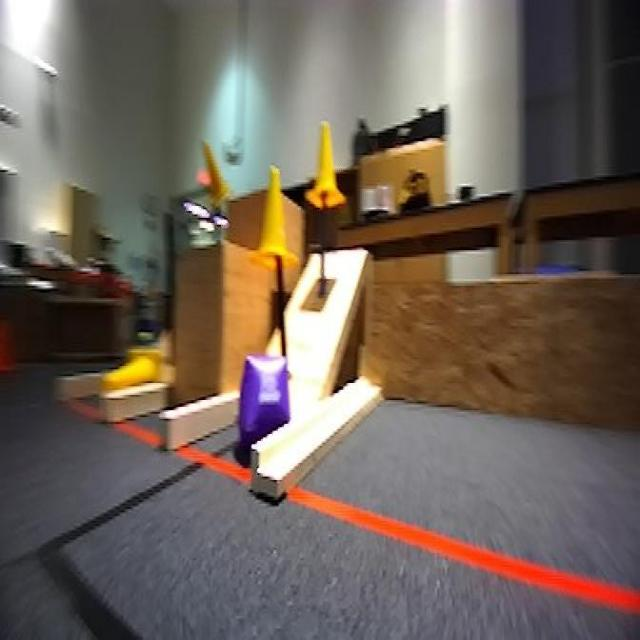frc_cone: (253, 167, 297, 274), (102, 337, 164, 395), (305, 119, 342, 211), (200, 133, 234, 211)
frc_cube: (236, 344, 294, 446)
